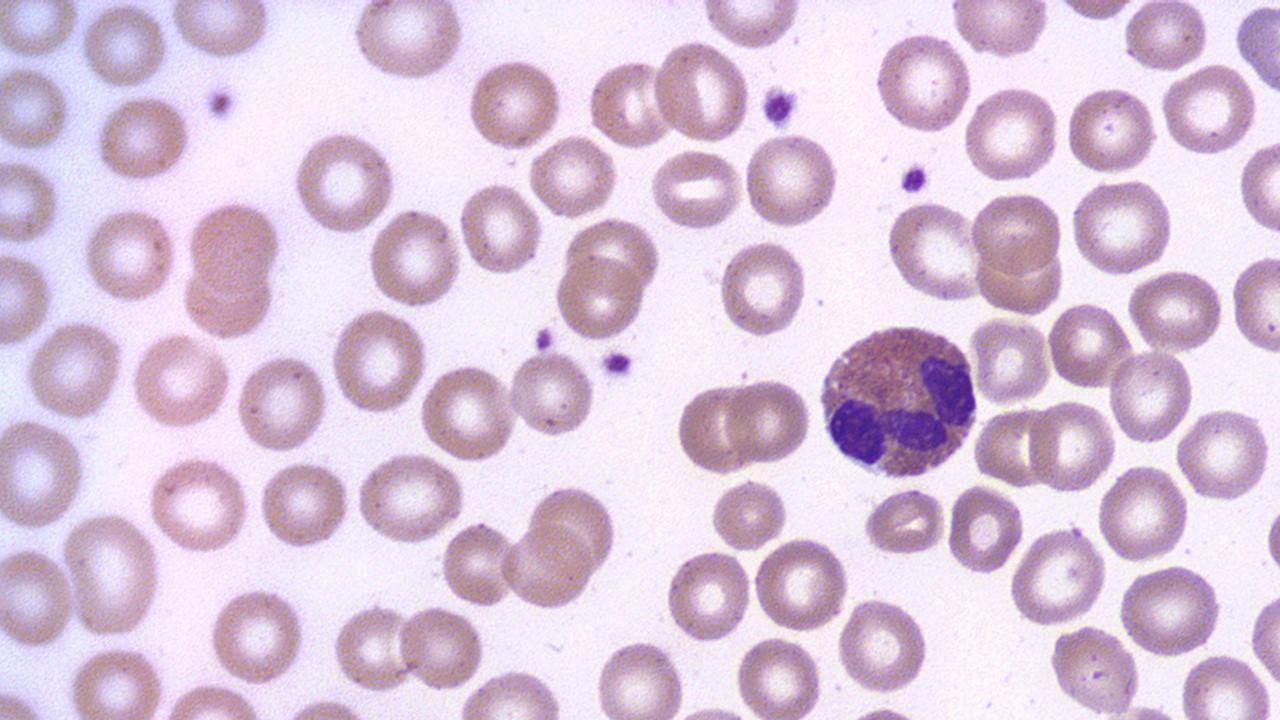Platelets: (758, 82, 801, 131), (203, 83, 241, 123), (598, 346, 638, 380), (898, 159, 930, 198), (531, 323, 558, 353)
RBC: (60, 512, 164, 638), (288, 128, 399, 236), (328, 307, 430, 418), (883, 198, 989, 303), (1068, 174, 1176, 277), (650, 38, 754, 144), (416, 361, 522, 463), (354, 450, 467, 545), (127, 331, 235, 430), (1006, 523, 1106, 629), (144, 456, 252, 554), (1116, 561, 1224, 659), (873, 31, 973, 136), (742, 130, 844, 232), (24, 319, 125, 421), (961, 82, 1061, 185), (182, 197, 286, 296), (366, 205, 463, 311), (0, 415, 87, 533), (464, 54, 564, 155), (206, 586, 308, 685), (1172, 405, 1274, 504), (235, 351, 331, 456), (348, 1, 466, 85), (80, 205, 178, 305), (752, 534, 850, 634), (834, 595, 930, 697), (1095, 461, 1191, 563), (1158, 62, 1260, 157), (716, 237, 810, 340), (1045, 622, 1143, 717), (92, 93, 193, 185), (663, 546, 754, 646), (256, 458, 352, 552), (528, 481, 621, 578), (1027, 396, 1117, 495), (1063, 84, 1159, 176), (1126, 266, 1226, 354), (1106, 347, 1194, 447), (500, 522, 598, 611), (457, 179, 544, 279), (330, 600, 420, 696), (586, 56, 676, 152), (552, 255, 648, 345), (506, 346, 596, 441), (968, 190, 1065, 278), (396, 601, 487, 694), (724, 372, 814, 466), (562, 213, 663, 296), (0, 544, 77, 652), (647, 147, 747, 230), (674, 379, 758, 474), (734, 632, 826, 718), (592, 636, 688, 718), (528, 134, 620, 219), (945, 481, 1025, 578), (81, 3, 169, 91), (968, 314, 1050, 408), (970, 238, 1067, 316), (1046, 299, 1130, 389), (64, 645, 170, 716), (440, 519, 520, 609), (970, 406, 1054, 487), (1176, 650, 1276, 718), (0, 61, 73, 153), (862, 482, 947, 558), (168, 1, 274, 61), (1122, 1, 1208, 72), (707, 476, 787, 552), (1, 156, 64, 249), (950, 1, 1051, 58), (456, 667, 570, 717), (0, 248, 54, 347), (697, 2, 805, 51), (1228, 252, 1278, 357), (1, 0, 79, 60), (1232, 2, 1278, 97), (1238, 138, 1280, 233), (1248, 586, 1280, 692), (1048, 0, 1140, 24), (1263, 498, 1280, 582)
WBC: (813, 318, 980, 483)
